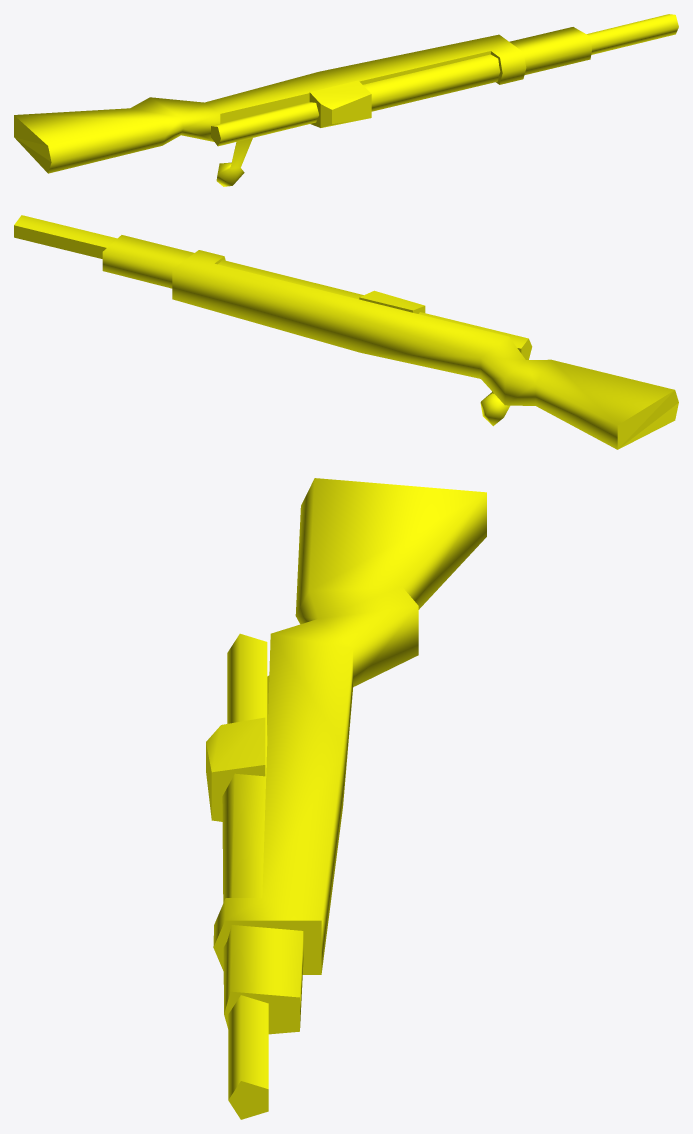
The model's file is weapon_98k.glb.
The picture shows the model from 3 angles, top to bottom: view 1: azimuth 30°, elevation 25°; view 2: azimuth 150°, elevation 25°; view 3: azimuth 270°, elevation 25°; orthographic projection. The views are drawn at different scales.
Parts seen in each view (by area): view 1: weapon_98k; view 2: weapon_98k; view 3: weapon_98k.
Part boxes in pixels (left/top/right/bottom): weapon_98k: left=14, top=14, right=678, bottom=186; weapon_98k: left=14, top=215, right=678, bottom=449; weapon_98k: left=206, top=478, right=486, bottom=1119.
Bounding box in the file's own units: 2.03 × 0.2563 × 0.4065.
Materials: 1 (1 with a texture image).
